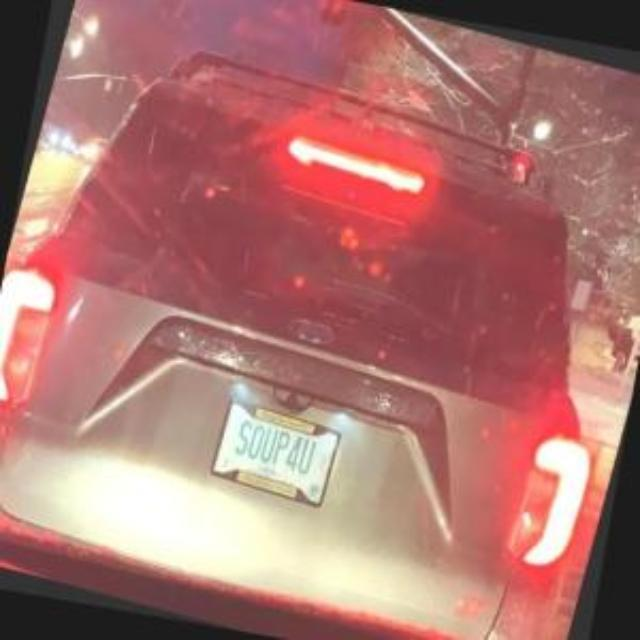License Plate: (208, 395, 340, 509)
